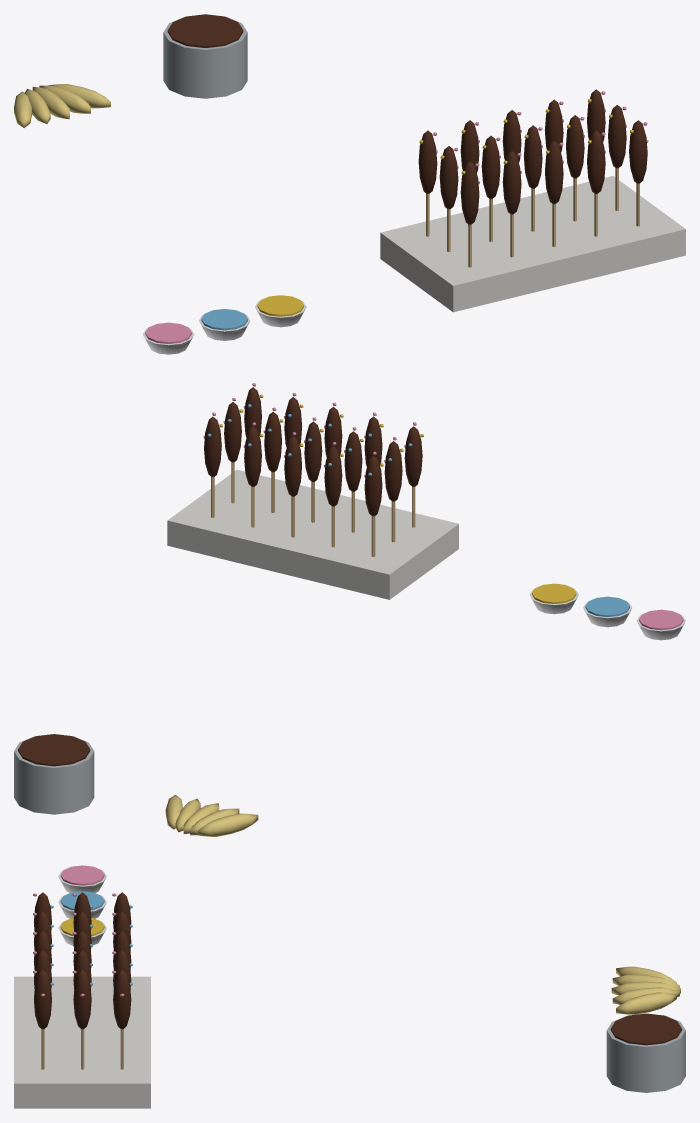
The model's file is goods_chocobanana.glb.
3 views of the same model, one above another, from view 1: azimuth 30°, elevation 25°; view 2: azimuth 150°, elevation 25°; view 3: azimuth 270°, elevation 25° (orthographic). The views are drawn at different scales.
Parts seen in each view (by area): view 1: goods_chocobanana; view 2: goods_chocobanana; view 3: goods_chocobanana.
Part boxes in pixels (x1,y1,x2,y2): goods_chocobanana: [14, 14, 685, 354]; goods_chocobanana: [14, 383, 685, 836]; goods_chocobanana: [14, 865, 685, 1108].
Size of the model in its own units: 1.79 by 0.5742 by 2.2.
